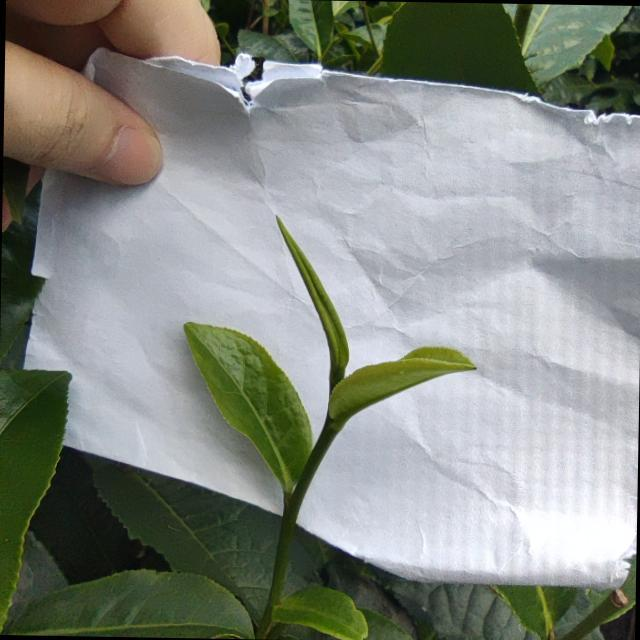Stem: (323, 427, 335, 441)
